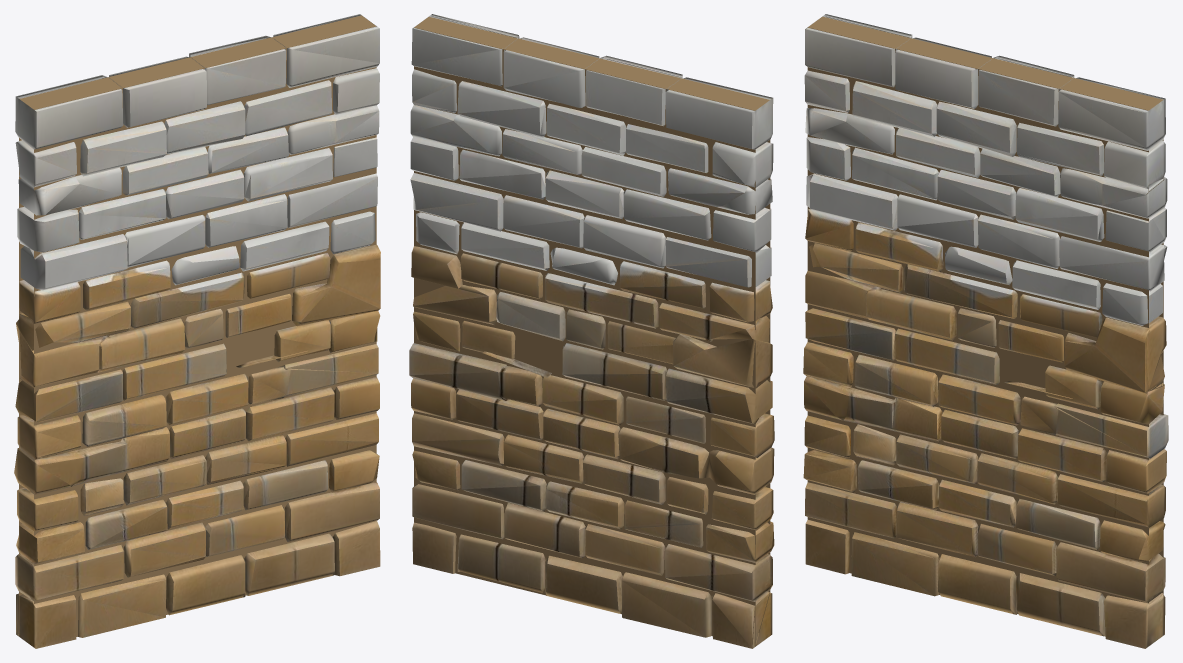
The model's file is wall-plaster.glb.
The picture shows the model from 3 angles, left to right: view 1: azimuth 30°, elevation 25°; view 2: azimuth 150°, elevation 25°; view 3: azimuth 330°, elevation 25°; orthographic projection.
Bounding box in the file's own units: 2 × 3 × 0.25.
Materials: 1 (1 with a texture image).
